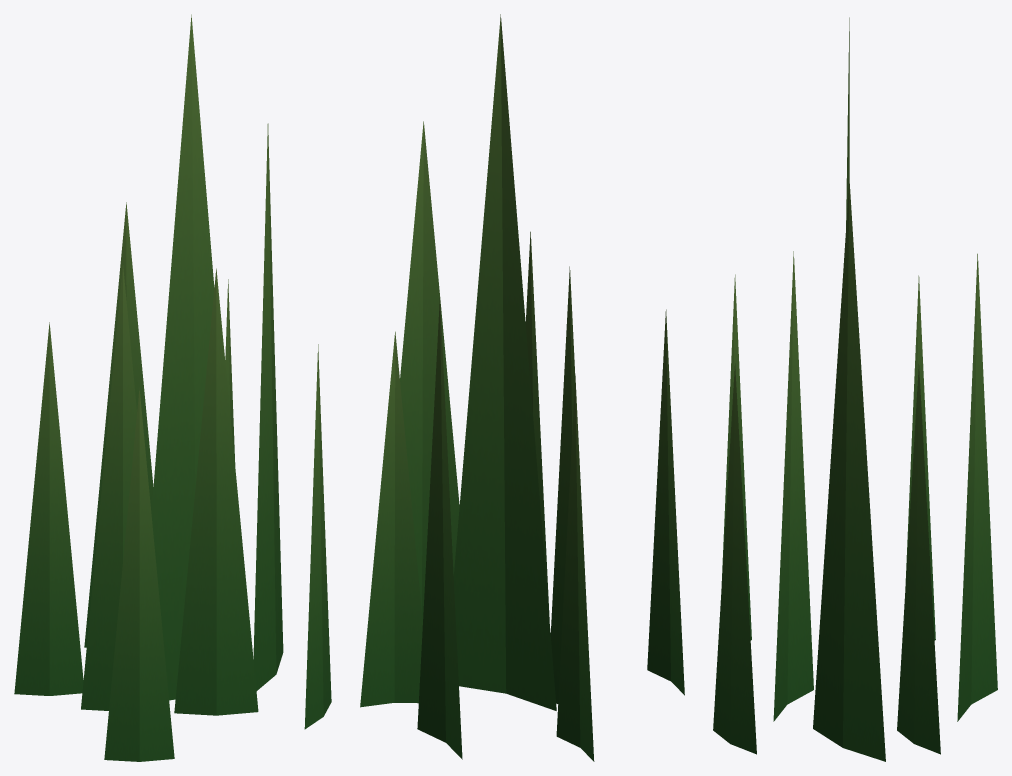
The model's file is Grass_1.fbx.
3 renders of one model, left to right at view 1: azimuth 30°, elevation 25°; view 2: azimuth 150°, elevation 25°; view 3: azimuth 270°, elevation 25°, orthographic. The views are drawn at different scales.
Visible parts, largest first — view 1: polySurface171; view 2: polySurface171; view 3: polySurface171.
Part boxes in pixels (box(x1,y1,x2,y2)): polySurface171: box(14, 14, 331, 761); polySurface171: box(360, 14, 684, 761); polySurface171: box(713, 17, 997, 761).
Bounding box in the file's own units: 29.07 × 77 × 28.67.
